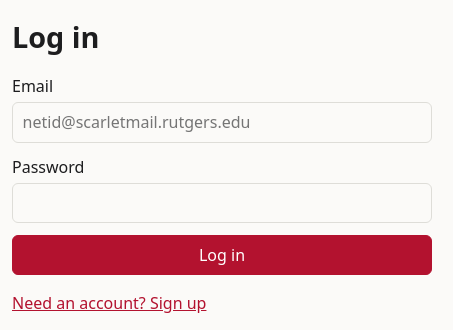
Test: Login page › logs in and goes home
Type "a@b.edu" into the field labelled "Email". click: x=222, y=122
box: [12,102,432,143]
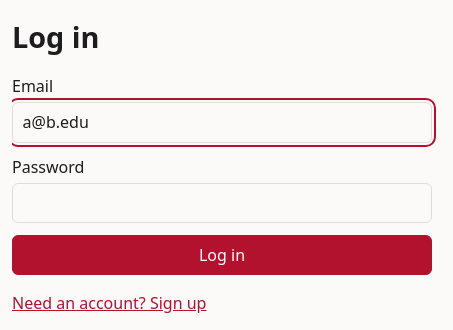
Type "secret1" into the password field labelled "Password". click: x=222, y=203
box: [12,183,432,223]
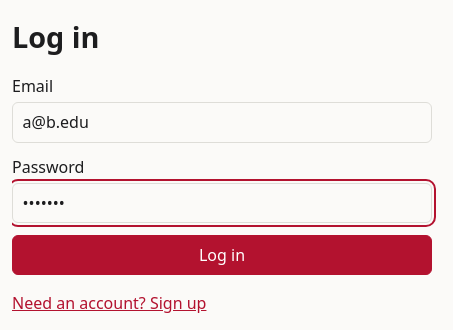
Click the button "Log in". click: x=222, y=255
box: [12,235,432,275]
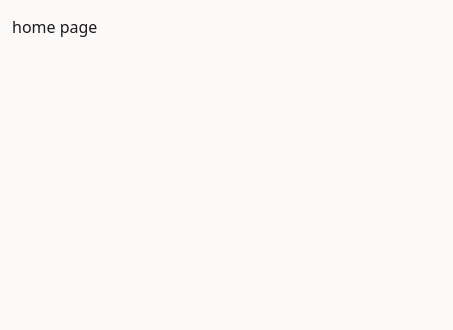
Check: the text "home page" is shown, box [12,16,97,38]
